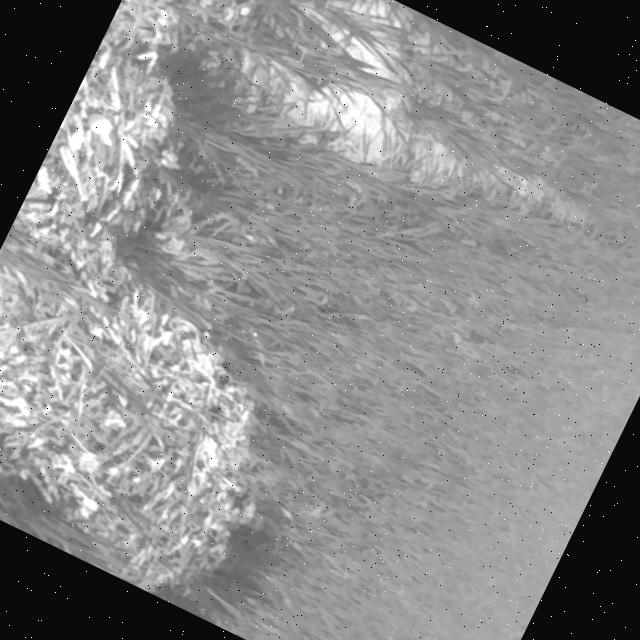ping-pong-ball: (82, 110, 114, 138)
